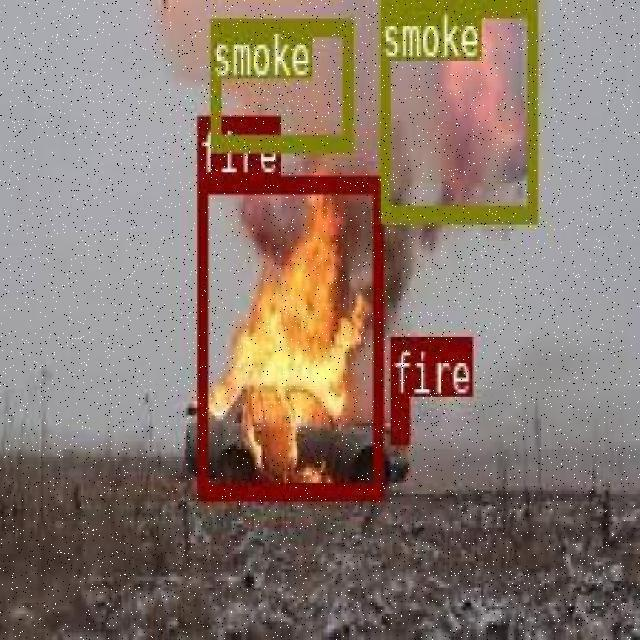Smoke: (378, 0, 536, 217), (209, 15, 351, 148)
